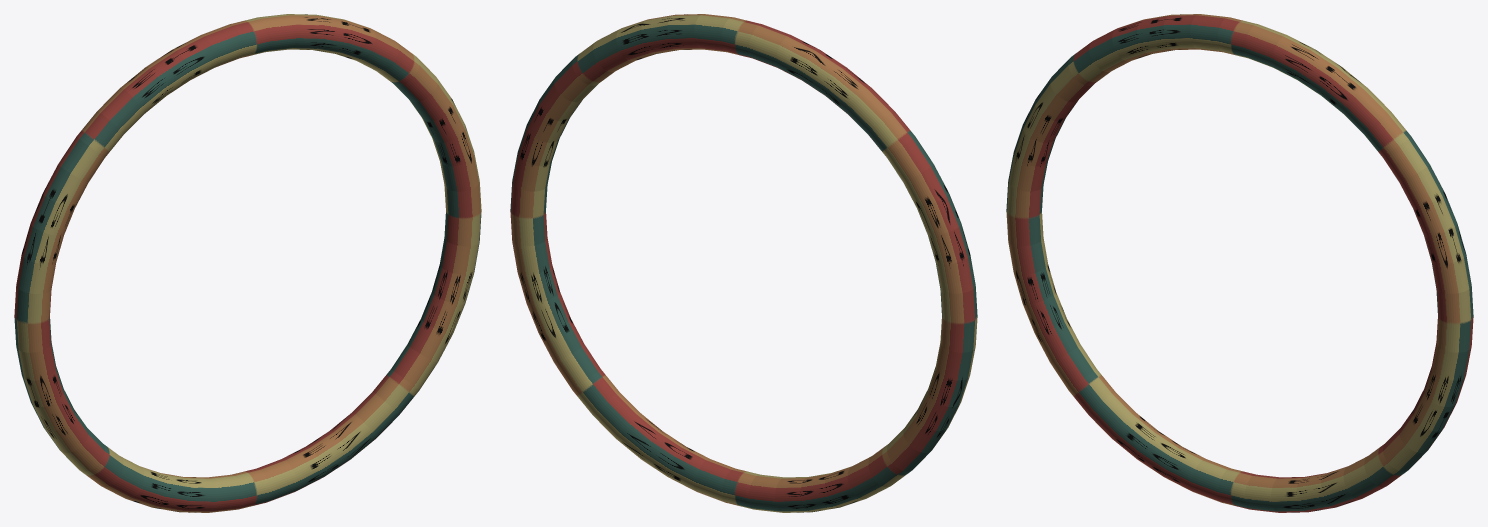
Rendered from texture_torus_R27_r0.glb.
The picture shows the model from 3 angles, left to right: view 1: azimuth 30°, elevation 25°; view 2: azimuth 150°, elevation 25°; view 3: azimuth 330°, elevation 25°; orthographic projection.
Parts seen in each view (by area): view 1: world; view 2: world; view 3: world.
Part boxes in pixels (x1,y1,x2,y2): world: [14, 14, 481, 512]; world: [510, 14, 977, 512]; world: [1006, 14, 1473, 512].
Bounding box in the file's own units: 30 × 29.94 × 2.
1 material, 1 textured.
